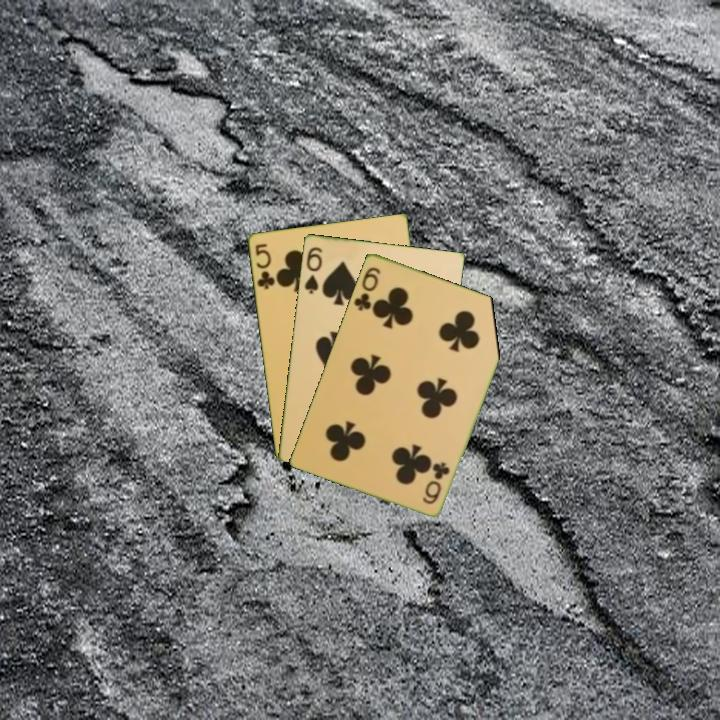5c: (251, 240, 277, 292)
6c: (350, 263, 383, 314), (419, 458, 452, 507)
6s: (301, 243, 325, 296)
